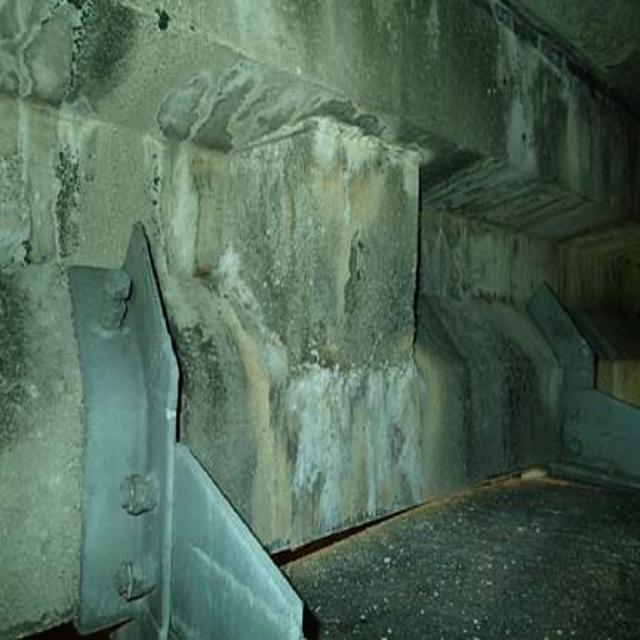freelime: (291, 360, 426, 506), (494, 30, 600, 186), (270, 100, 437, 199)
